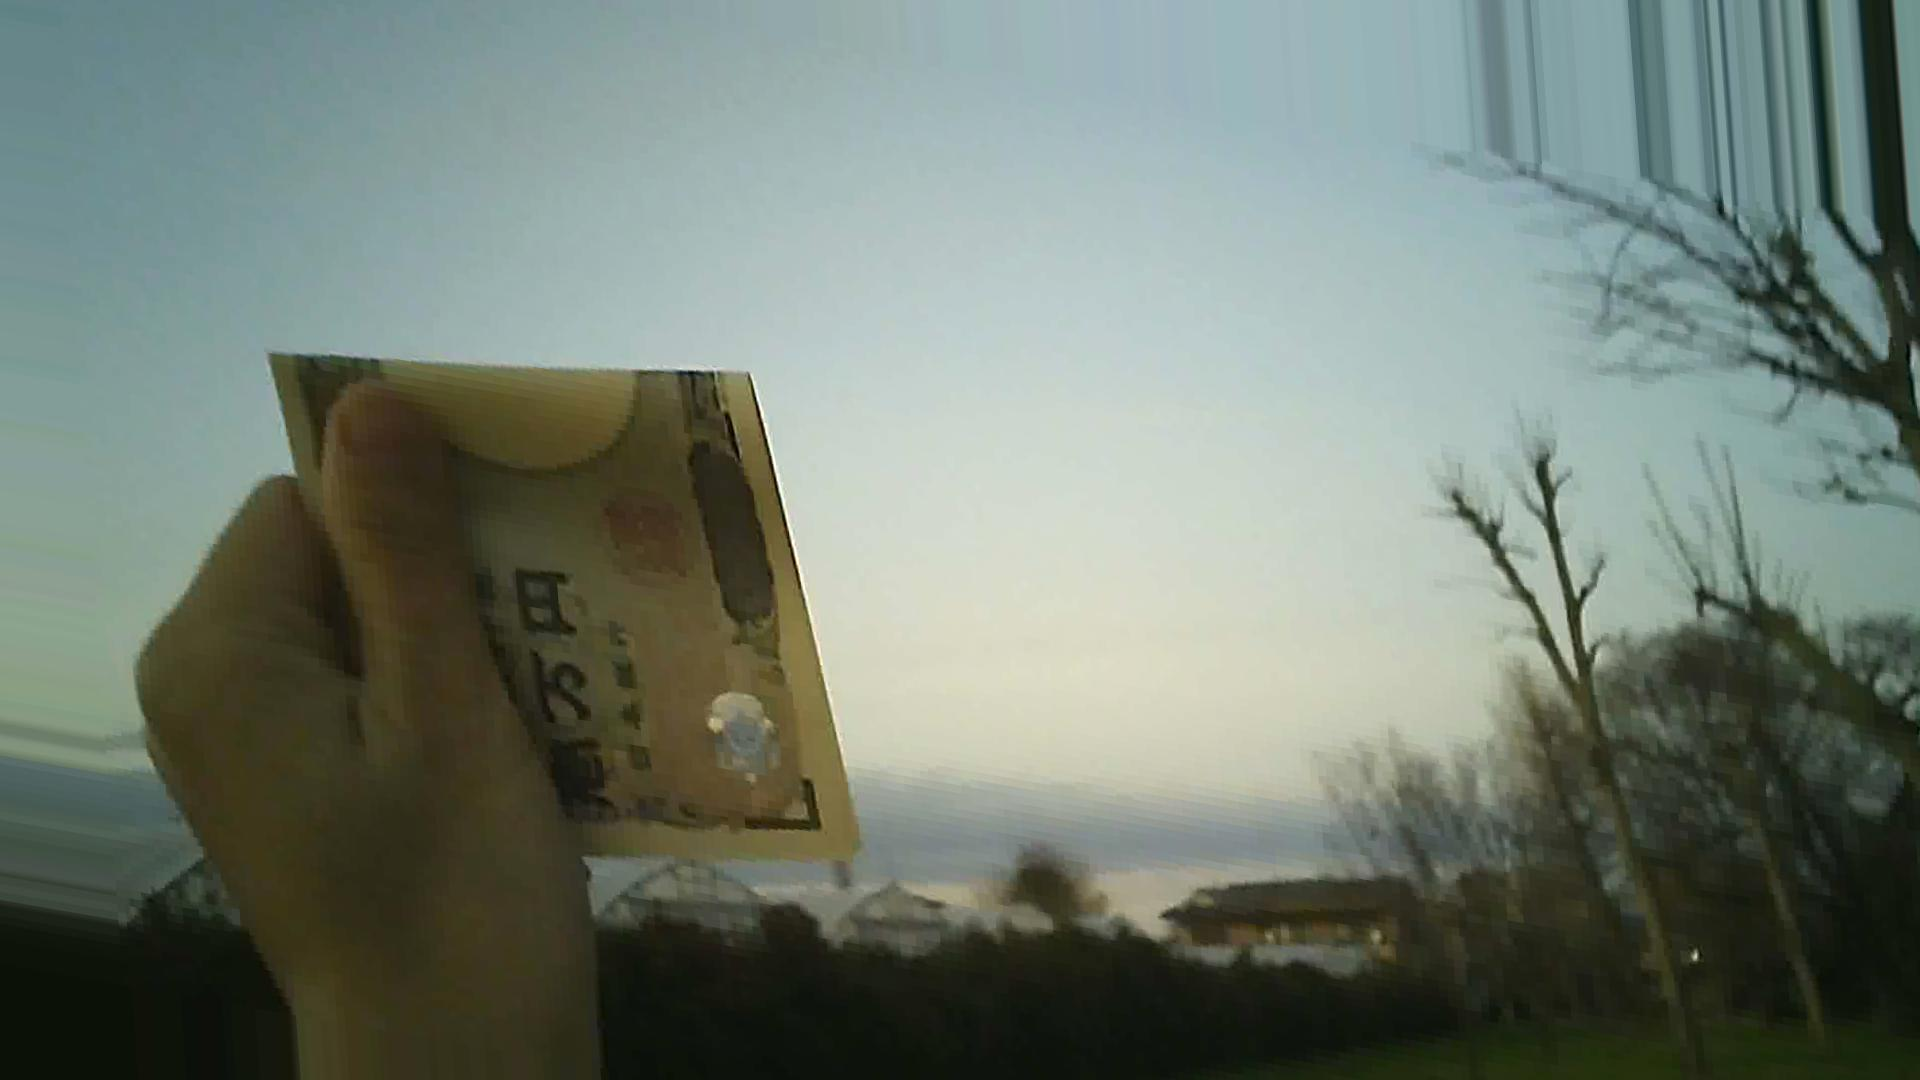10,000 Yen: (247, 306, 872, 880)
